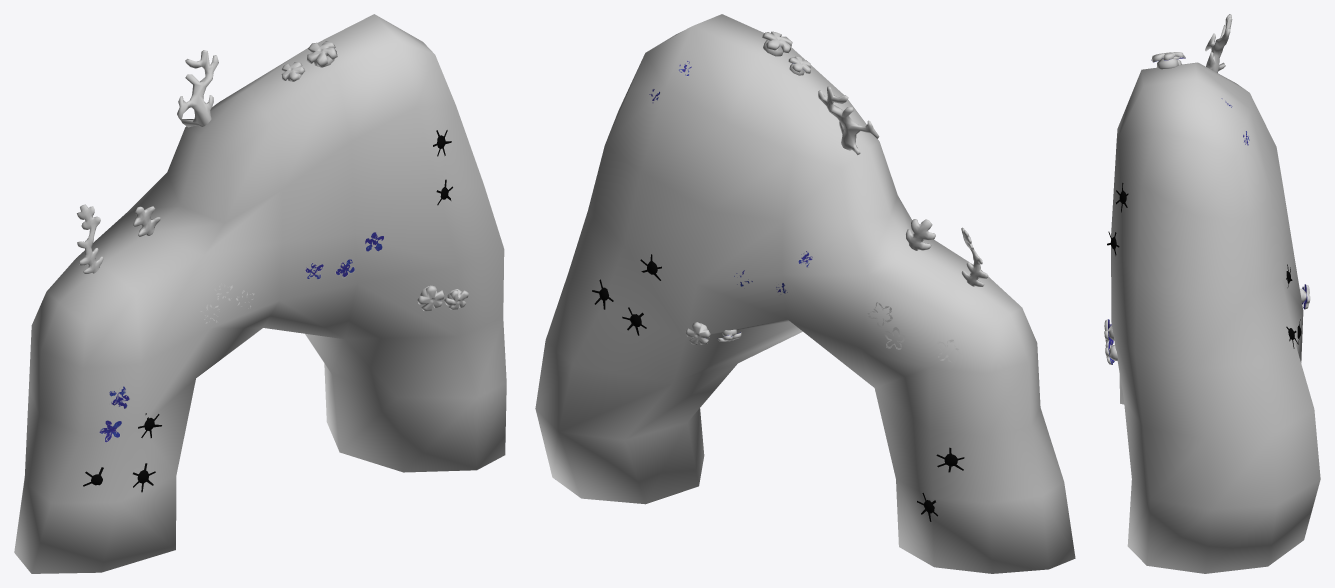
Rendered from big_coral_2.obj.
3 views of the same model, side by side, from view 1: azimuth 30°, elevation 25°; view 2: azimuth 150°, elevation 25°; view 3: azimuth 270°, elevation 25° (orthographic). The views are drawn at different scales.
Visible parts, largest first — view 1: BigRock.001; view 2: BigRock.001; view 3: BigRock.001.
Boxes of the visible parts, x1=… form: BigRock.001: x1=14, y1=14, x2=506, y2=573; BigRock.001: x1=535, y1=14, x2=1075, y2=573; BigRock.001: x1=1104, y1=14, x2=1320, y2=573.
Size of the model in its own units: 13.94 by 12.48 by 5.49.
14 materials, 4 textured.
